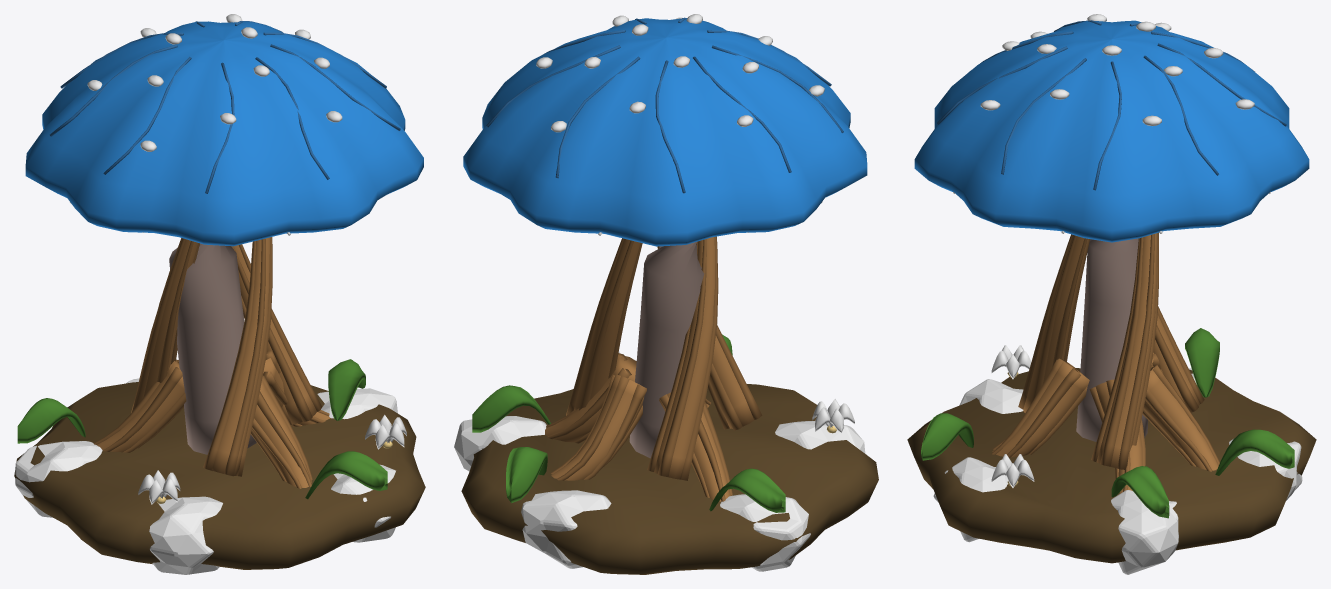
Rendered from mushroom-1.fbx.
3 renders of one model, left to right at view 1: azimuth 30°, elevation 25°; view 2: azimuth 150°, elevation 25°; view 3: azimuth 270°, elevation 25°, orthographic. The views are drawn at different scales.
Visible parts, largest first — view 1: Petals_PortalCap, mushroom-1_Organic, Turret_Bark, mushroom-1_Stone, mushroom-1_Bark, mushroom-1_PortalBamboo, mushroom-1_Petal, Petals_Glow; view 2: Petals_PortalCap, mushroom-1_Organic, Turret_Bark, mushroom-1_Stone, mushroom-1_Bark, mushroom-1_PortalBamboo, Petals_Glow, mushroom-1_Petal; view 3: Petals_PortalCap, mushroom-1_Organic, Turret_Bark, mushroom-1_Bark, mushroom-1_Stone, mushroom-1_PortalBamboo, Petals_Glow, mushroom-1_Petal.
Boxes of the visible parts, x1=… form: Petals_PortalCap: x1=25, y1=21, x2=423, y2=454; mushroom-1_Organic: x1=14, y1=382, x2=425, y2=569; Turret_Bark: x1=131, y1=237, x2=321, y2=476; mushroom-1_Stone: x1=15, y1=378, x2=397, y2=574; mushroom-1_Bark: x1=93, y1=351, x2=330, y2=488; mushroom-1_PortalBamboo: x1=17, y1=359, x2=387, y2=499; mushroom-1_Petal: x1=138, y1=414, x2=406, y2=504; Petals_Glow: x1=70, y1=14, x2=342, y2=235; Petals_PortalCap: x1=463, y1=17, x2=867, y2=458; mushroom-1_Organic: x1=461, y1=384, x2=878, y2=574; Turret_Bark: x1=566, y1=236, x2=762, y2=480; mushroom-1_Stone: x1=454, y1=416, x2=865, y2=571; mushroom-1_Bark: x1=545, y1=353, x2=732, y2=501; mushroom-1_PortalBamboo: x1=472, y1=334, x2=785, y2=512; Petals_Glow: x1=536, y1=14, x2=824, y2=235; mushroom-1_Petal: x1=618, y1=351, x2=854, y2=433; Petals_PortalCap: x1=914, y1=20, x2=1309, y2=441; mushroom-1_Organic: x1=907, y1=368, x2=1316, y2=563; Turret_Bark: x1=1018, y1=232, x2=1204, y2=469; mushroom-1_Bark: x1=991, y1=353, x2=1219, y2=493; mushroom-1_Stone: x1=933, y1=368, x2=1302, y2=574; mushroom-1_PortalBamboo: x1=921, y1=328, x2=1294, y2=518; Petals_Glow: x1=953, y1=14, x2=1270, y2=233; mushroom-1_Petal: x1=991, y1=345, x2=1034, y2=487.
Bounding box in the file's own units: 82.07 × 104 × 82.7.
